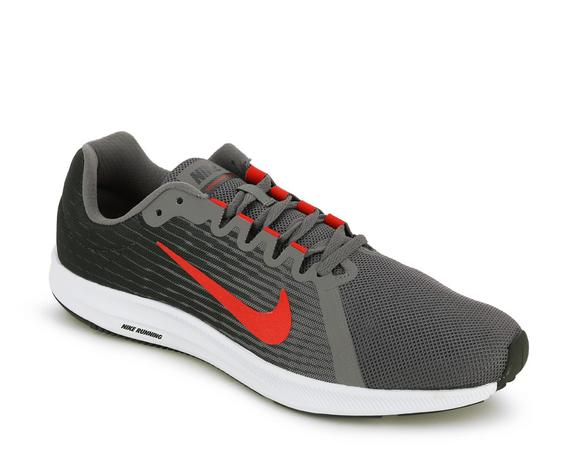nike: (157, 237, 295, 348)
